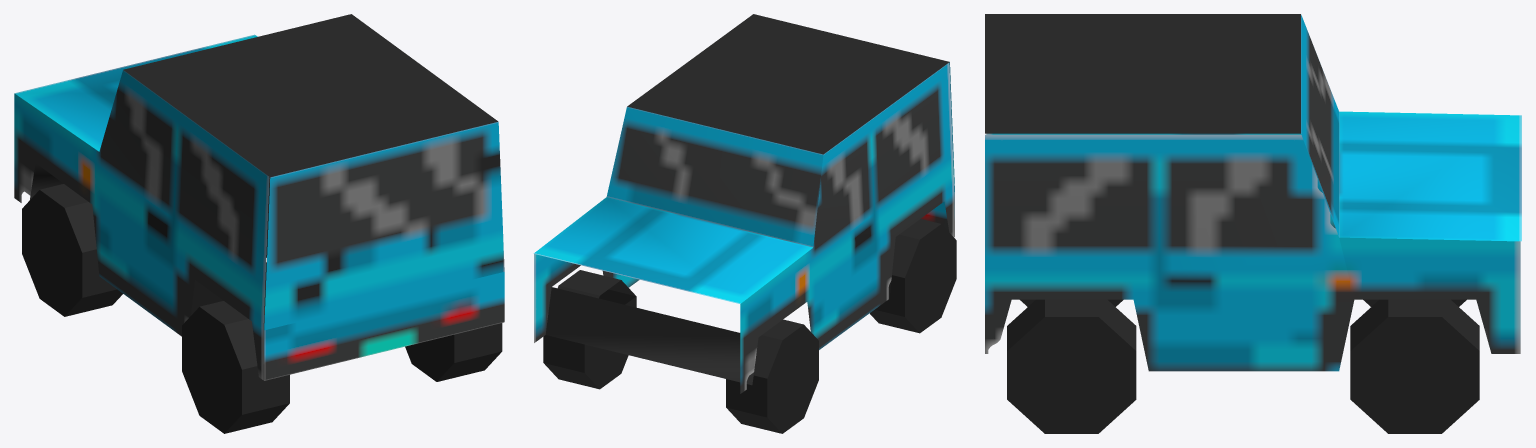
The model's file is car_blue.glb.
3 renders of one model, left to right at view 1: azimuth 30°, elevation 25°; view 2: azimuth 150°, elevation 25°; view 3: azimuth 270°, elevation 25°, orthographic. The views are drawn at different scales.
Parts seen in each view (by area): view 1: CarBLue; view 2: CarBLue; view 3: CarBLue.
Part boxes in pixels (left/top/right/bottom): CarBLue: left=14, top=14, right=504, bottom=433; CarBLue: left=533, top=14, right=956, bottom=433; CarBLue: left=985, top=14, right=1521, bottom=433.
Size of the model in its own units: 1.88 by 1.88 by 3.13.
1 material, 1 textured.
